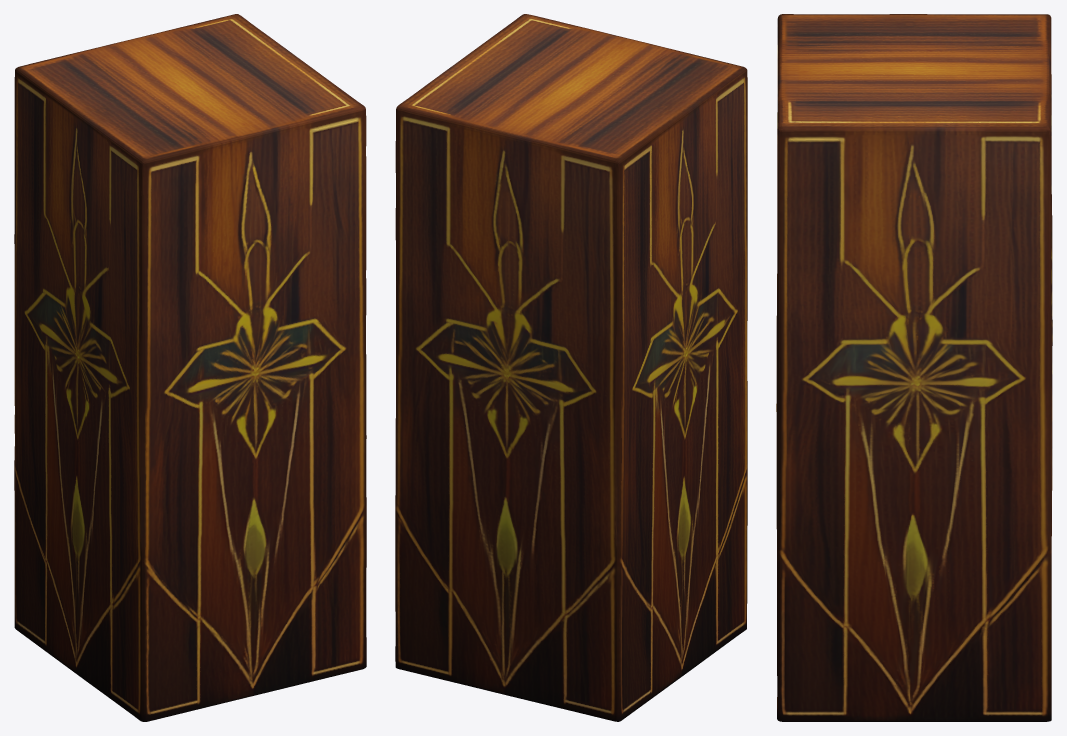
Rendered from wooden-bookmark-art-deco.jpeg.glb.
3 renders of one model, left to right at view 1: azimuth 30°, elevation 25°; view 2: azimuth 150°, elevation 25°; view 3: azimuth 270°, elevation 25°, orthographic. The views are drawn at different scales.
Visible parts, largest first — view 1: world; view 2: world; view 3: world.
Part boxes in pixels (bbox=[...]): world: bbox=[14, 14, 366, 721]; world: bbox=[395, 14, 747, 721]; world: bbox=[776, 14, 1052, 721].
Size of the model in its own units: 0.4232 by 1 by 0.4217.
Materials: 1 (1 with a texture image).
